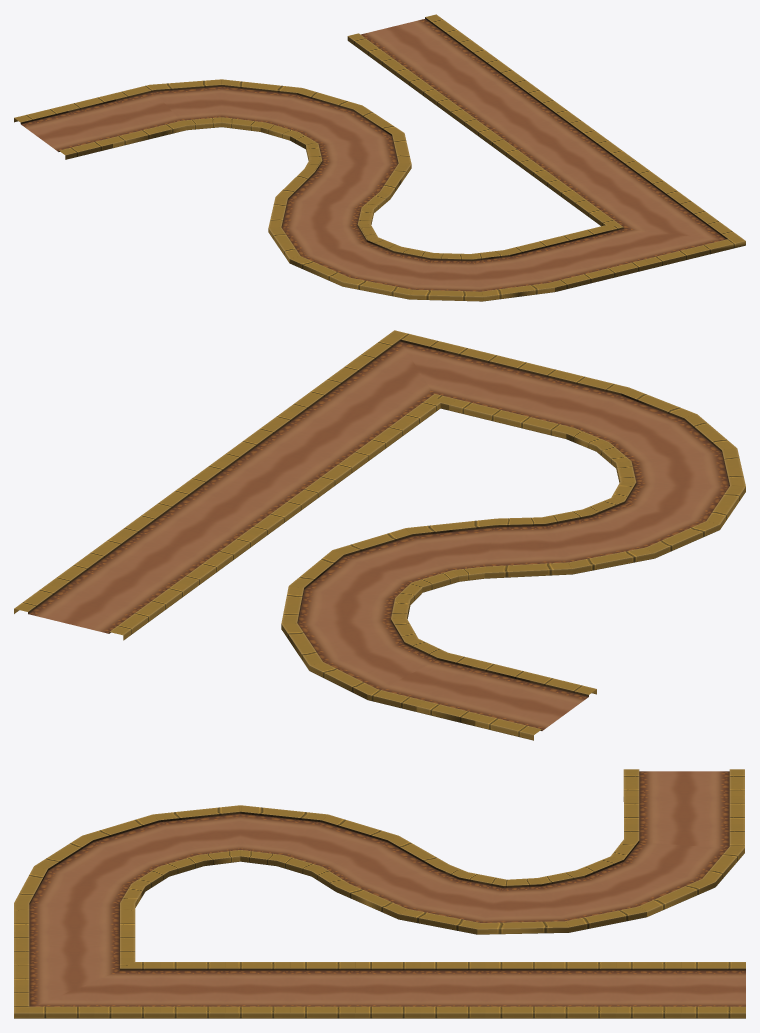
The model's file is RoadPiece_12.FBX.
3 renders of one model, top to bottom at view 1: azimuth 30°, elevation 25°; view 2: azimuth 150°, elevation 25°; view 3: azimuth 270°, elevation 25°, orthographic. The views are drawn at different scales.
Visible parts, largest first — view 1: RoadPiece_12; view 2: RoadPiece_12; view 3: RoadPiece_12.
Part boxes in pixels (bbox=[...]): RoadPiece_12: bbox=[14, 14, 745, 301]; RoadPiece_12: bbox=[14, 330, 745, 740]; RoadPiece_12: bbox=[14, 769, 745, 1018].
Size of the model in its own units: 7.76 by 0.0795 by 9.85.
